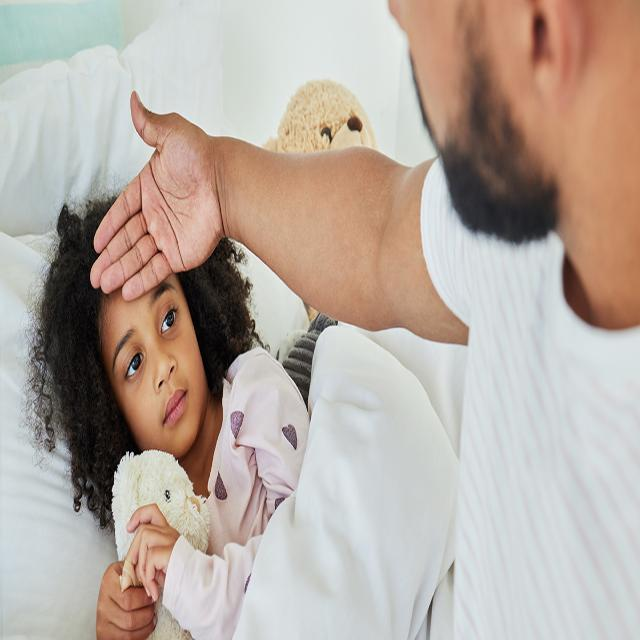adult: (90, 0, 640, 640)
child: (36, 191, 312, 640)
